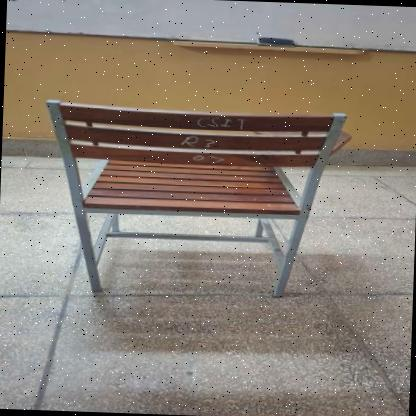chair: (30, 82, 356, 306)
